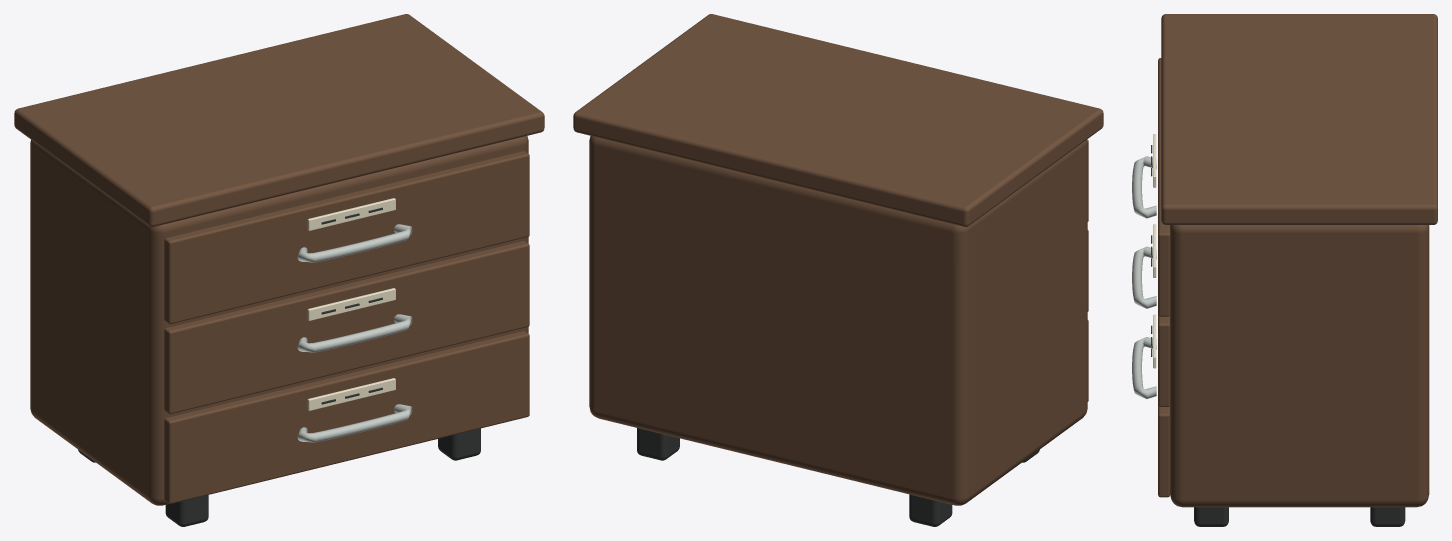
File: abandoned-telephone-exchange-maintenance-tool-chest-fae767a4__32012.glb
3 renders of one model, left to right at view 1: azimuth 30°, elevation 25°; view 2: azimuth 150°, elevation 25°; view 3: azimuth 270°, elevation 25°, orthographic.
Visible parts, largest first — view 1: maintenance-tool-chest; view 2: maintenance-tool-chest; view 3: maintenance-tool-chest.
Part boxes in pixels (x1=…): maintenance-tool-chest: x1=14, y1=14, x2=544, y2=526; maintenance-tool-chest: x1=573, y1=14, x2=1103, y2=526; maintenance-tool-chest: x1=1132, y1=14, x2=1437, y2=526.
Size of the model in its own units: 0.92 by 0.765 by 0.6139.
